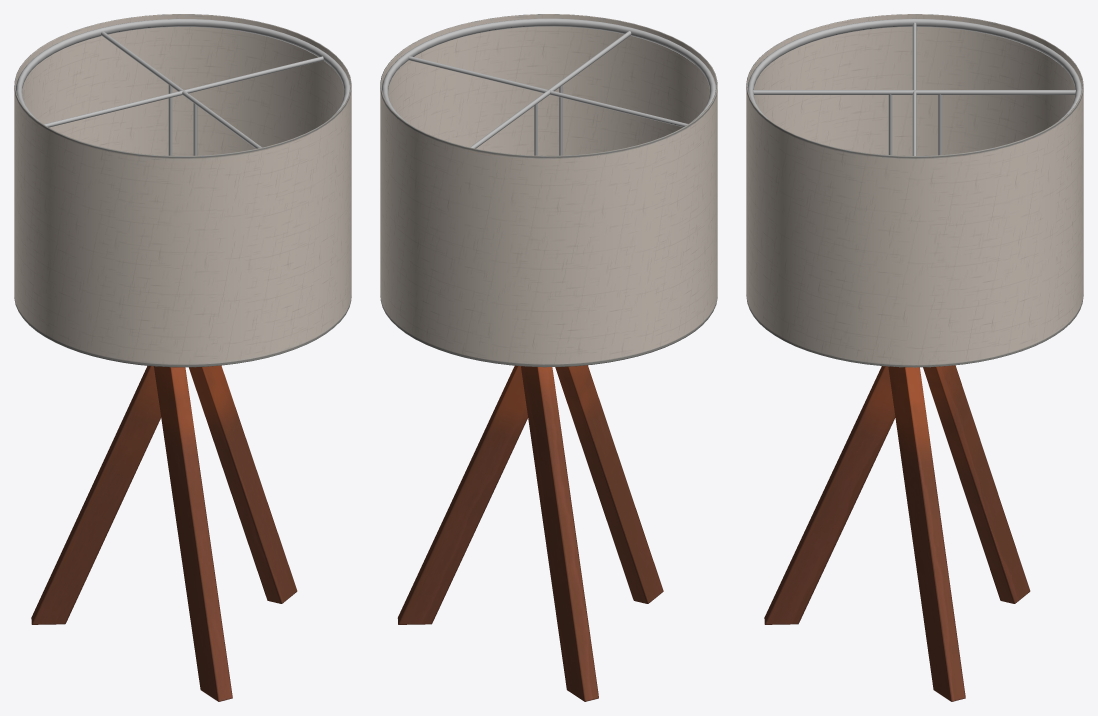
File: lamp_B073P484RQ.glb
3 renders of one model, left to right at view 1: azimuth 30°, elevation 25°; view 2: azimuth 150°, elevation 25°; view 3: azimuth 270°, elevation 25°, orthographic.
Parts seen in each view (by area): view 1: RootNode; view 2: RootNode; view 3: RootNode.
Part boxes in pixels (x1,y1,x2,y2): RootNode: [14, 14, 351, 701]; RootNode: [380, 14, 717, 701]; RootNode: [746, 14, 1083, 701].
Size of the model in its own units: 0.3803 by 0.6858 by 0.3798.
Materials: 1 (1 with a texture image).
